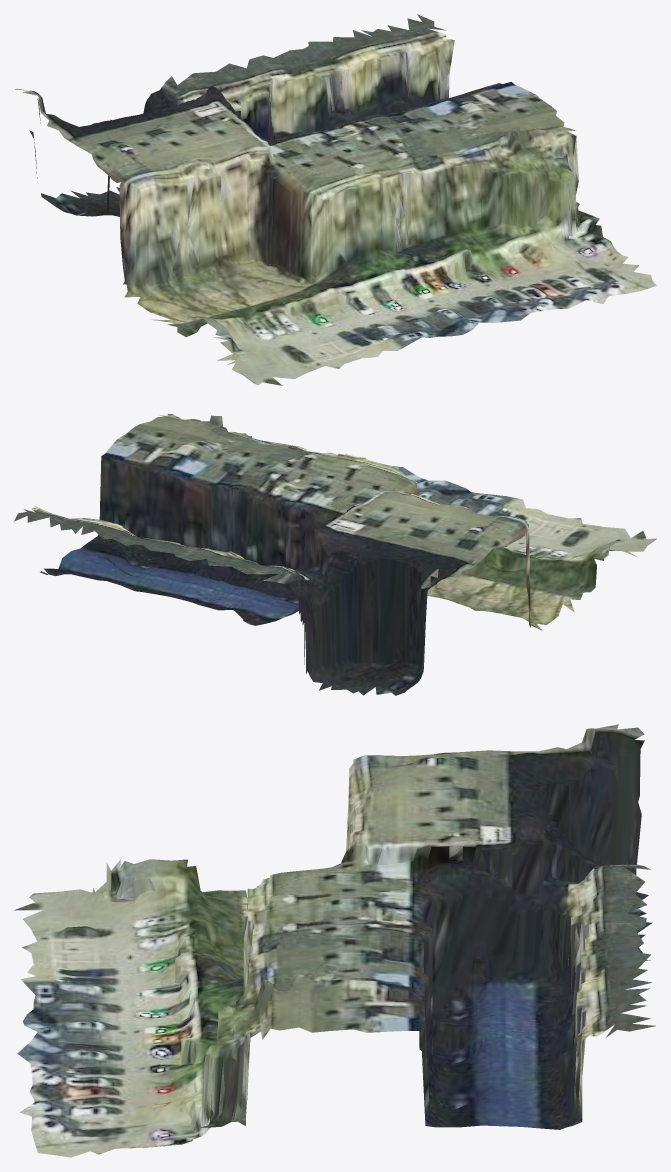
Rendered from Tile_001_003_L14_141.glb.
3 views of the same model, one above another, from view 1: azimuth 30°, elevation 25°; view 2: azimuth 150°, elevation 25°; view 3: azimuth 270°, elevation 25° (orthographic). The views are drawn at different scales.
Visible parts, largest first — view 1: rtc; view 2: rtc; view 3: rtc.
Boxes of the visible parts, left/top/right/bottom form: rtc: left=15, top=14, right=656, bottom=385; rtc: left=14, top=414, right=656, bottom=695; rtc: left=14, top=724, right=655, bottom=1157.
Size of the model in its own units: 70.98 by 21 by 71.67.
1 material, 1 textured.
